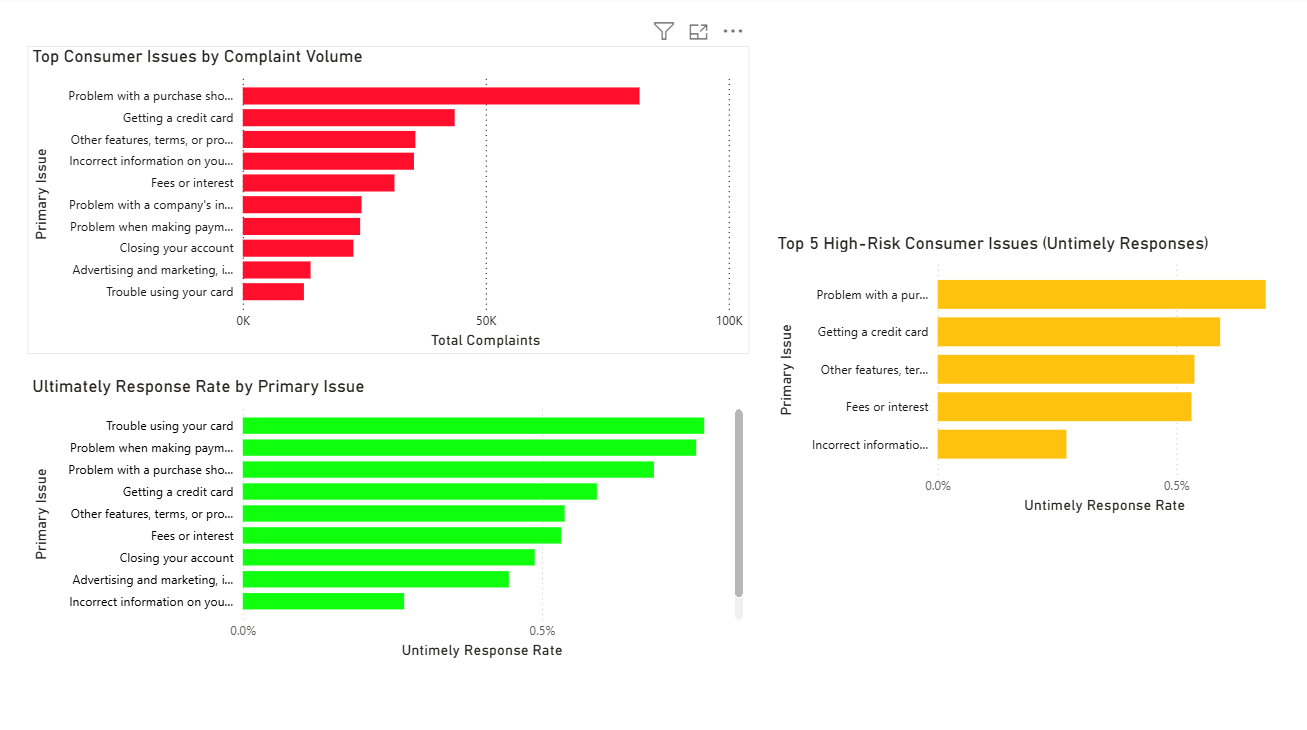

What the dashboard file says about the page in this screenshot:
{"tool":"powerbi","page":{"name":"Risk & Consumer Impact","canvas":[1280,720],"ordinal":3},"visuals":[{"type":"clusteredBarChart","title":"Top Consumer Issues by Complaint Volume","fields":{"Category":["complaints.Primary Issue"],"Y":["complaints.Total Complaints"]},"box":[27.2,48.6,705.2,300.5],"z":0},{"type":"clusteredBarChart","title":"Ultimately Response Rate by Primary Issue","fields":{"Category":["complaints.Primary Issue"],"Y":["complaints.Untimely Response Rate"]},"box":[27.2,371.6,705.2,281.1],"z":1000},{"type":"clusteredBarChart","title":"Top 5 High-Risk Consumer Issues (Untimely Responses) ","fields":{"Category":["complaints.Primary Issue"],"Y":["complaints.Untimely Response Rate"]},"box":[755.7,231.5,506.7,280.1],"z":2000}]}

Visuals, with their boxes in screenshot pixels (x1, y1, x2, y2), scaled from the page's 1280x720 canvas onto the 1307x730 screenshot:
"Top Consumer Issues by Complaint Volume" clusteredBarChart: [28,49,748,354]
"Ultimately Response Rate by Primary Issue" clusteredBarChart: [28,377,748,662]
"Top 5 High-Risk Consumer Issues (Untimely Responses) " clusteredBarChart: [772,235,1289,519]
